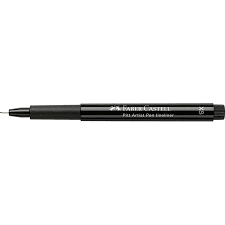qillqana: (1, 100, 225, 124)
